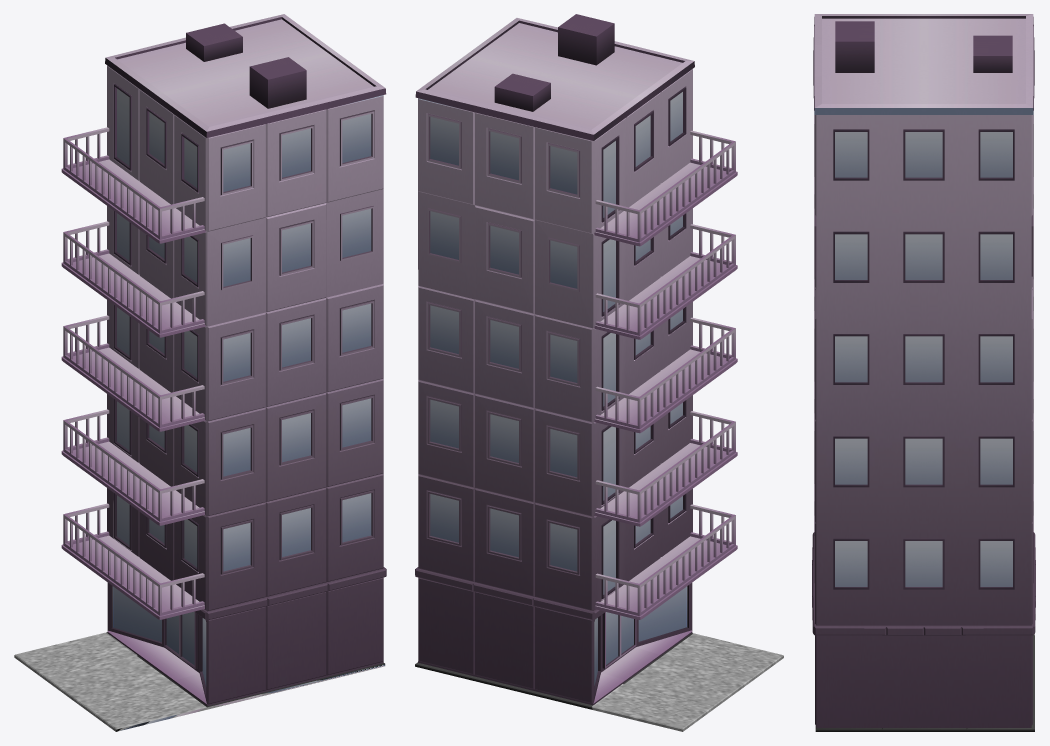
Rendered from miami_buildings_V2_001.FBX.
The picture shows the model from 3 angles, left to right: view 1: azimuth 30°, elevation 25°; view 2: azimuth 150°, elevation 25°; view 3: azimuth 270°, elevation 25°; orthographic projection. The views are drawn at different scales.
Parts seen in each view (by area): view 1: Box001, Box144, Object043, Object042, Object041, Object044, Object040; view 2: Box001, Box144, Object043, Object040, Object044, Object041, Object042; view 3: Box001, Box144.
Part boxes in pixels (x1,y1,x2,y2): Box001: [105, 14, 386, 705]; Box144: [14, 632, 385, 731]; Object043: [61, 221, 205, 337]; Object042: [61, 315, 205, 431]; Object041: [61, 409, 204, 525]; Object044: [61, 127, 205, 243]; Object040: [61, 503, 204, 619]; Box001: [415, 14, 694, 705]; Box144: [415, 633, 783, 731]; Object043: [594, 224, 737, 339]; Object040: [594, 504, 737, 619]; Object044: [594, 130, 737, 246]; Object041: [594, 411, 737, 526]; Object042: [594, 317, 737, 433]; Box001: [812, 14, 1035, 727]; Box144: [815, 634, 1034, 731].
Size of the model in its own units: 359 by 767 by 238.
